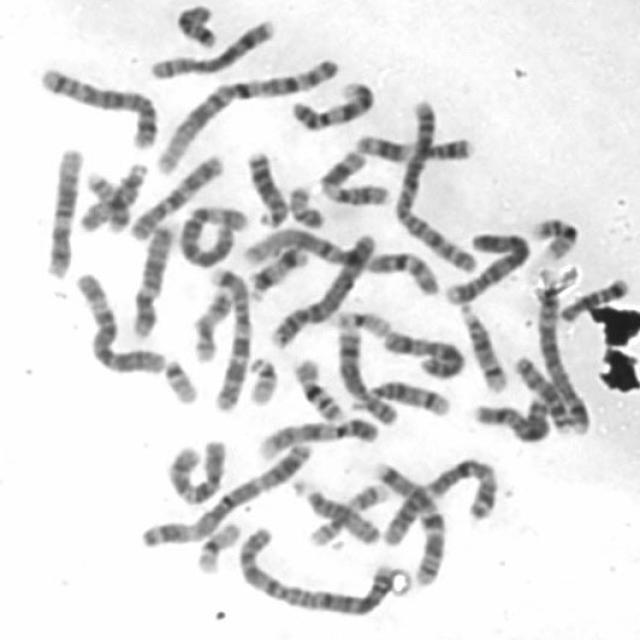A1: (147, 51, 345, 175), (237, 220, 444, 298)
A2: (232, 519, 401, 618), (390, 92, 481, 275)
A3: (136, 434, 316, 548), (375, 451, 502, 548)
B4: (265, 225, 380, 349), (440, 225, 533, 305)
B5: (33, 61, 161, 150), (532, 277, 593, 436)
C10: (124, 148, 227, 243), (160, 431, 231, 507)
C11: (314, 144, 392, 208), (350, 128, 478, 164)
C12: (125, 216, 179, 340), (38, 141, 86, 280)
C6: (70, 266, 168, 375), (174, 198, 252, 268)
C7: (367, 455, 450, 591), (203, 261, 255, 413)
C8: (146, 12, 280, 82), (332, 320, 402, 426)
C9: (253, 410, 385, 462), (285, 73, 379, 133)
D13: (508, 350, 578, 435), (242, 144, 291, 228)
D14: (455, 297, 511, 394), (355, 374, 452, 418)
D15: (289, 473, 386, 547), (74, 156, 150, 234)
E16: (287, 352, 349, 424), (526, 211, 582, 262)
E17: (312, 485, 397, 547), (187, 281, 234, 365)
E18: (556, 272, 633, 324), (171, 0, 221, 50)
F19: (189, 514, 243, 575), (328, 303, 393, 339)
F20: (80, 167, 132, 234), (284, 178, 327, 230)
G21: (244, 258, 285, 300), (276, 244, 310, 275)
G22: (159, 352, 202, 406), (242, 350, 280, 407)
X: (377, 324, 468, 380), (466, 391, 554, 444)
